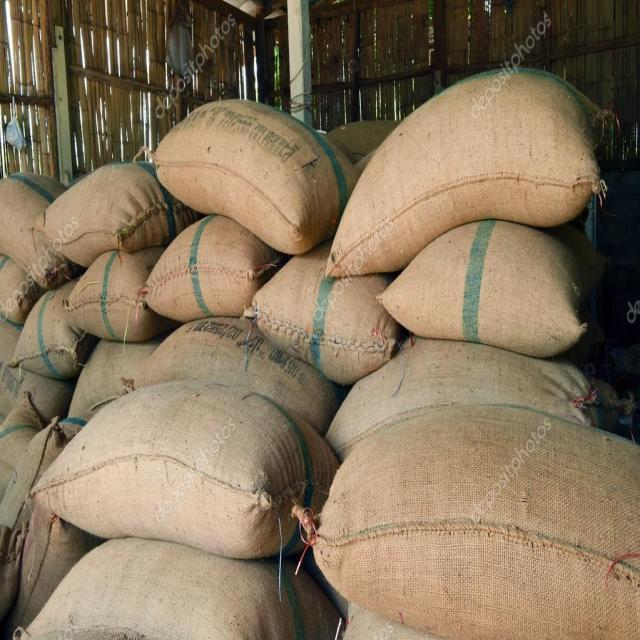gunny_bag: (303, 400, 640, 640), (324, 62, 608, 287), (28, 378, 330, 566), (322, 326, 592, 477), (12, 532, 346, 640), (153, 92, 342, 254), (379, 220, 598, 354), (133, 310, 338, 437), (250, 234, 394, 392), (38, 159, 196, 268), (1, 423, 73, 640), (140, 211, 266, 331), (62, 244, 189, 344), (62, 331, 174, 442), (0, 165, 70, 305), (11, 274, 81, 384)
